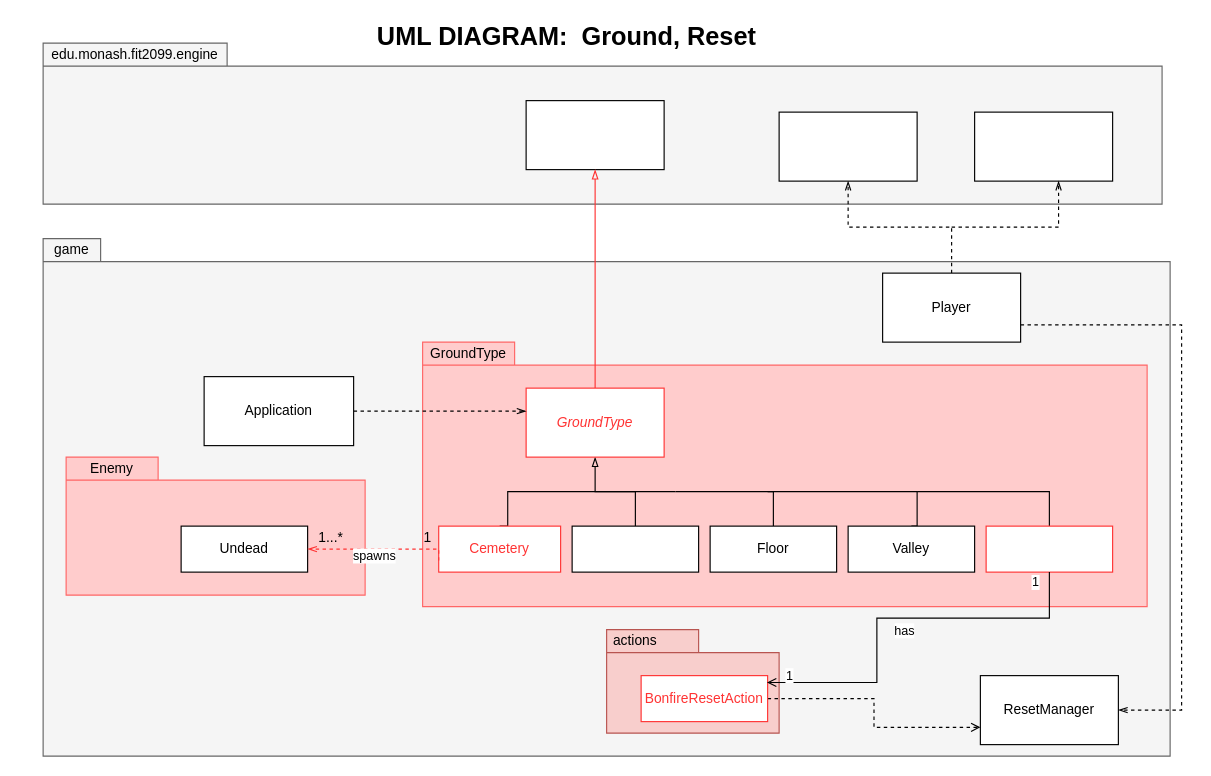
The diagram is 1211 pixels wide and 776 high, and some of its shapes have lost their labels. The shapes that lost their labels are listed below. From the top down, each one's centre as x and y in pixels, then its label:
(x=594, y=134): Ground
(x=847, y=146): Location
(x=1043, y=146): ActorLocations
(x=635, y=548): Dirt
(x=1049, y=548): Bonfire
